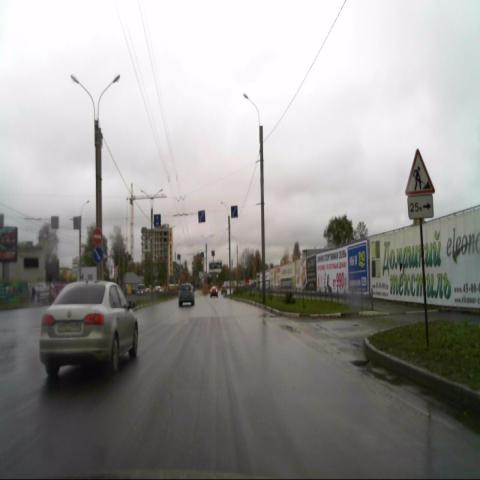8_1_3: (408, 195, 434, 219)
